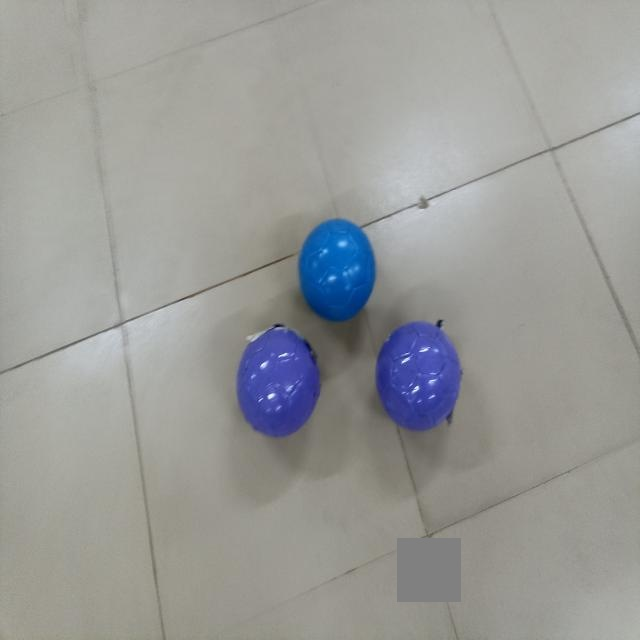blue_ball: (296, 214, 379, 330)
purple_ball: (370, 314, 467, 441), (228, 318, 326, 443)
